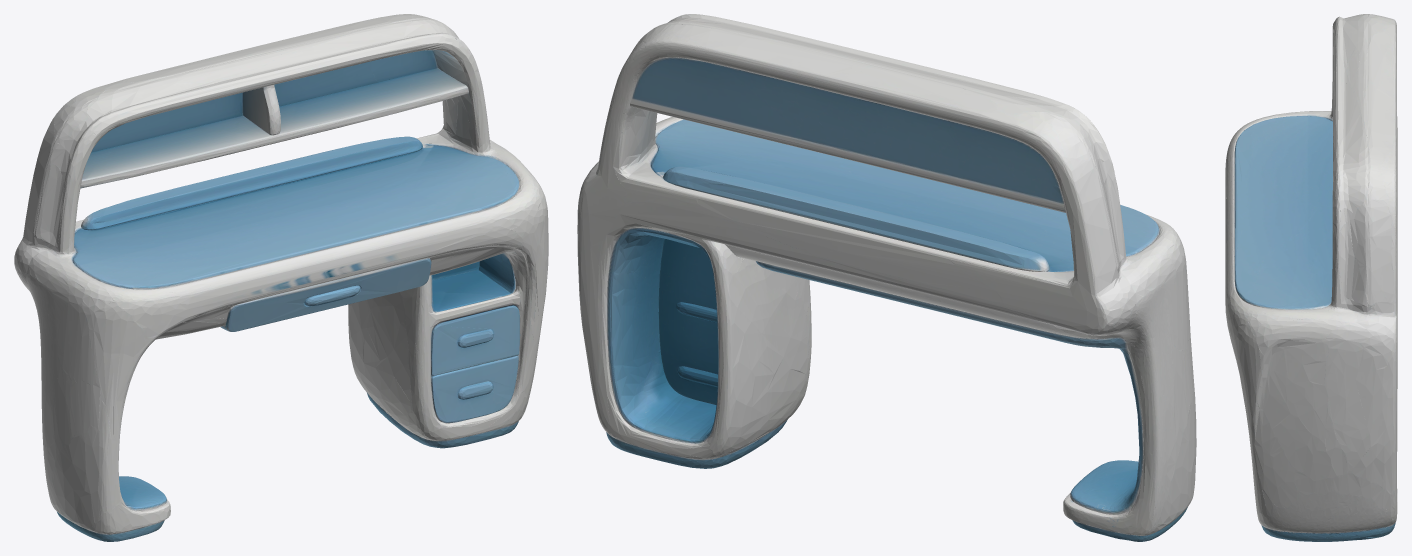
Rendered from frutiger-desk.glb.
The picture shows the model from 3 angles, left to right: view 1: azimuth 30°, elevation 25°; view 2: azimuth 150°, elevation 25°; view 3: azimuth 270°, elevation 25°; orthographic projection. The views are drawn at different scales.
Visible parts, largest first — view 1: material; view 2: material; view 3: material.
Boxes of the visible parts, <box> form: material: <box>14,14,548,541</box>; material: <box>577,14,1196,541</box>; material: <box>1225,14,1397,541</box>.
Size of the model in its own units: 1.57 by 1.2 by 0.5244.
1 material, 1 textured.
